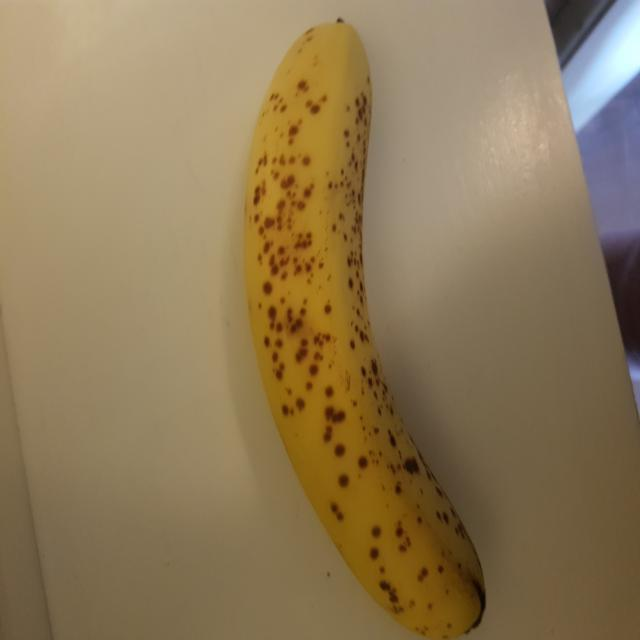Banana: (242, 14, 492, 640)
